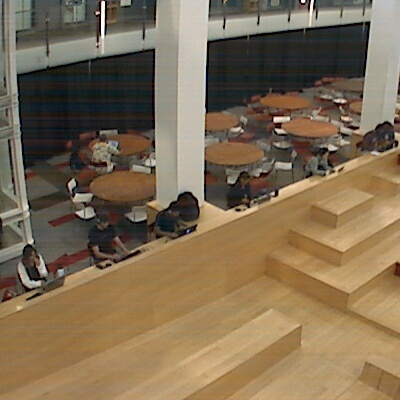head: (19, 243, 41, 264), (92, 211, 113, 231), (164, 199, 182, 218), (237, 170, 252, 188), (316, 147, 330, 161), (374, 121, 388, 135)
